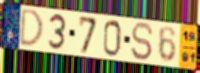0: (102, 19, 123, 58)
3: (47, 13, 67, 51)
6: (157, 26, 177, 64)
7: (77, 15, 98, 55)
D: (18, 7, 45, 48)
S: (130, 21, 155, 62)
